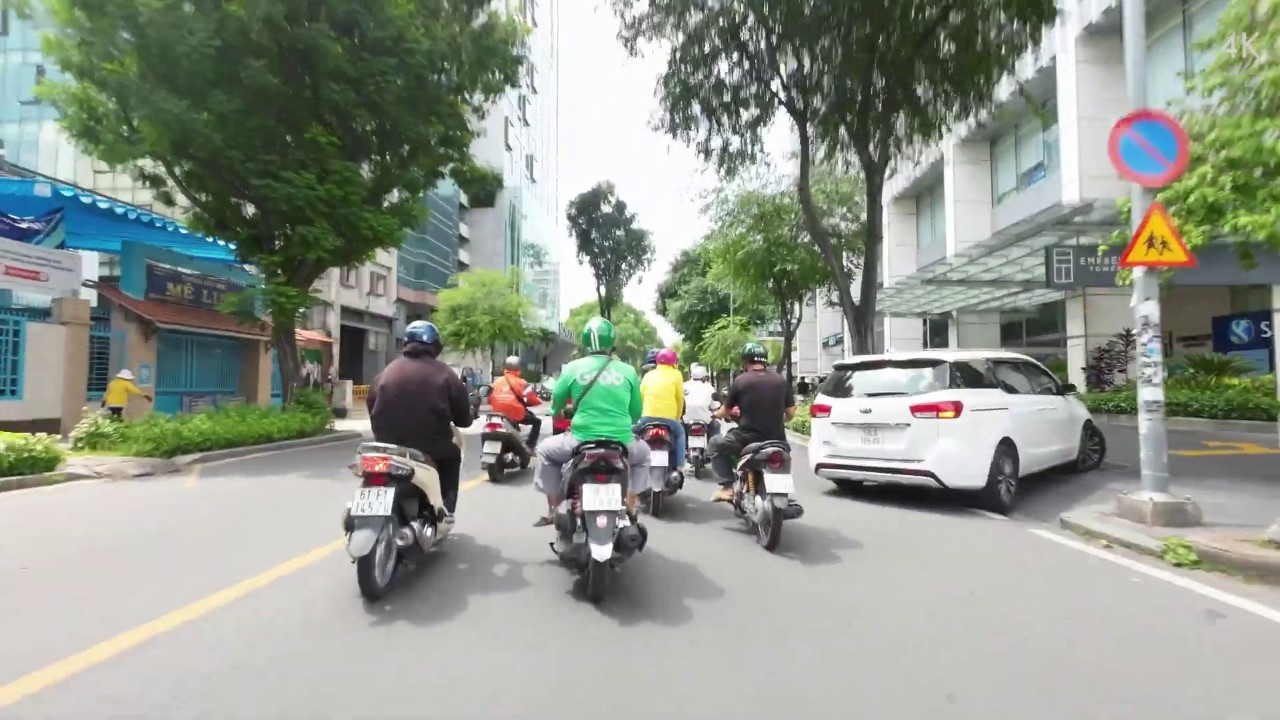cam_do_xe: (1105, 106, 1189, 189)
